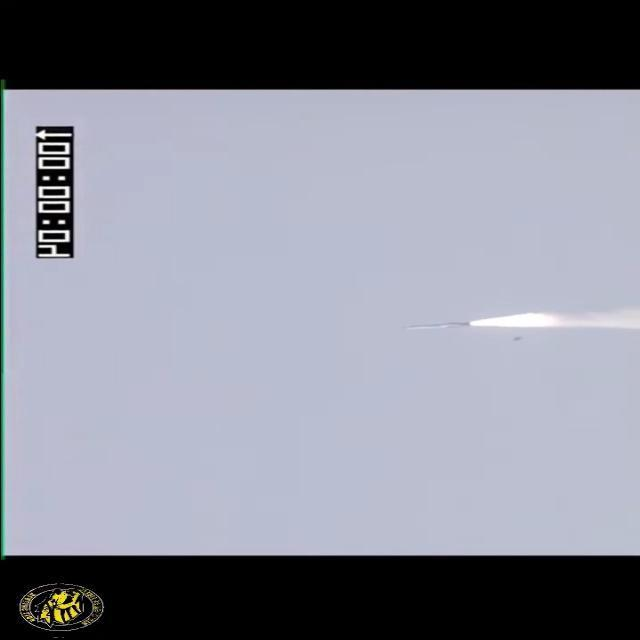Missile: (396, 321, 474, 332)
